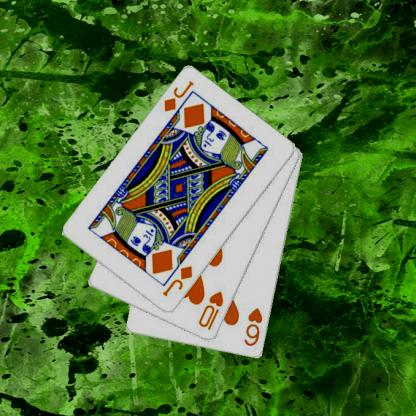10H: (196, 288, 225, 332)
6H: (241, 305, 265, 348)
JD: (159, 263, 194, 298), (161, 78, 195, 113)
